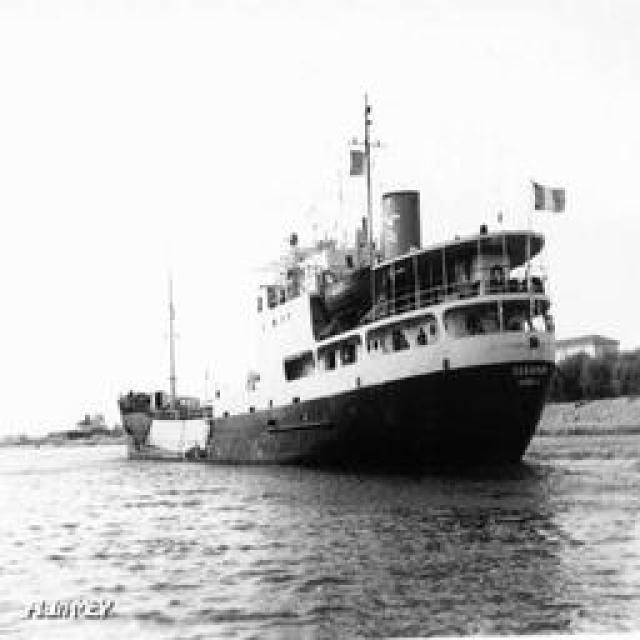ship: (148, 218, 558, 472)
